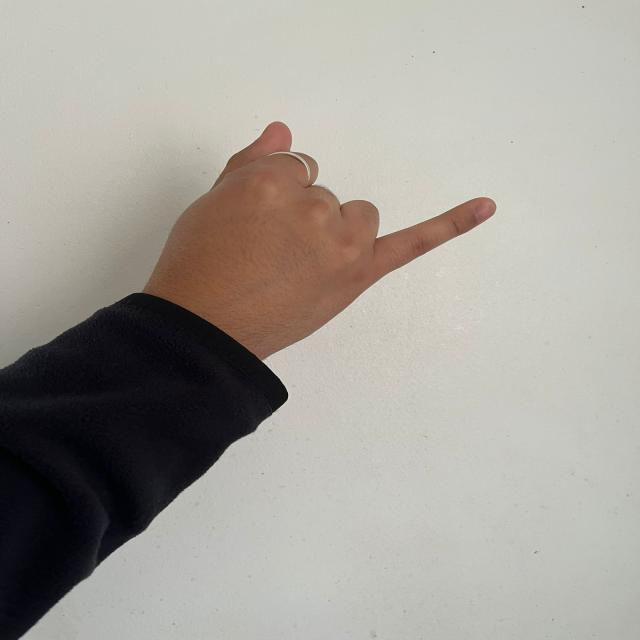J: (145, 116, 507, 360)
